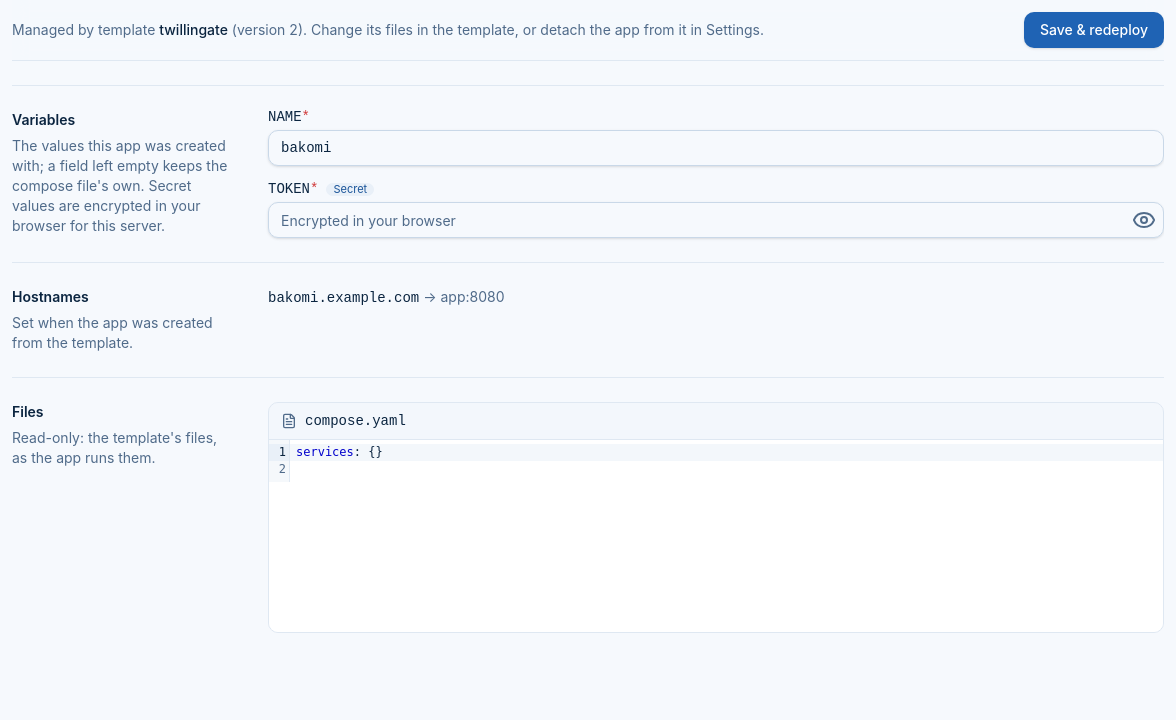
Test: InstancePanel › says a refused Save needs attention and focuses the first bad field
Click the button "Save & redeploy" at (1094, 30), box [1024, 12, 1164, 48]
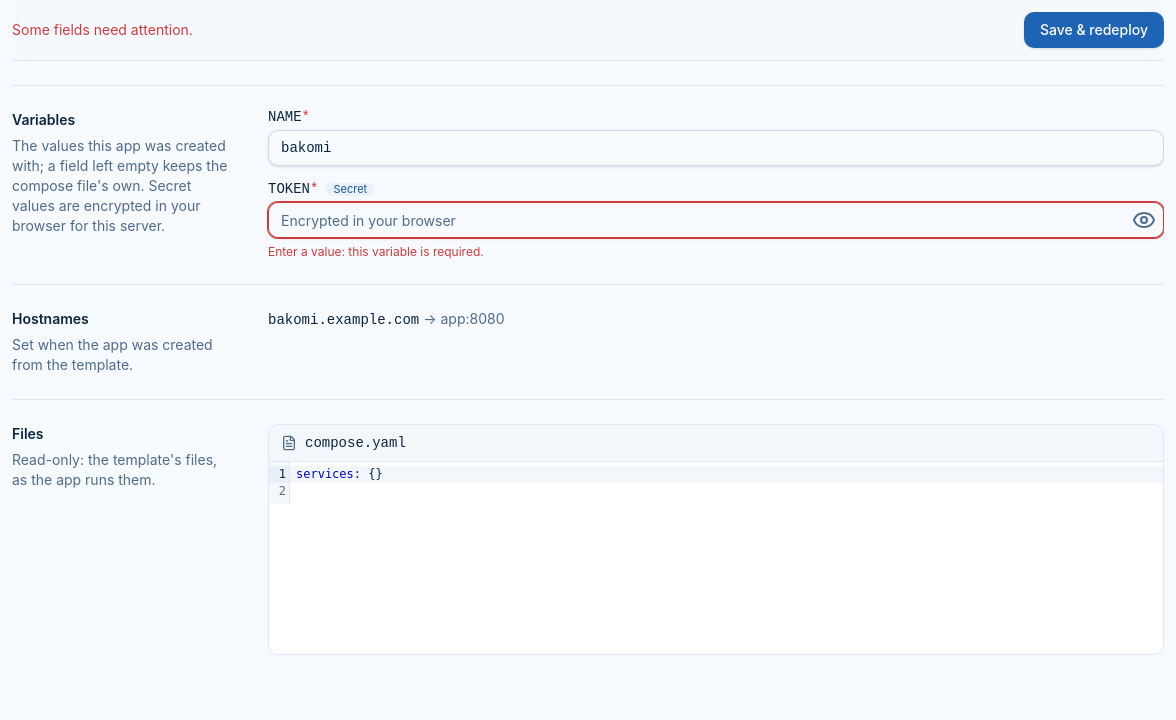
expect the message reads "Some fields need attention.": met, box [12, 21, 193, 38]
# Typing the secret clears the line.
Type "s3cret" into the password field labelled "TOKEN" at (716, 220), box [268, 202, 1164, 238]
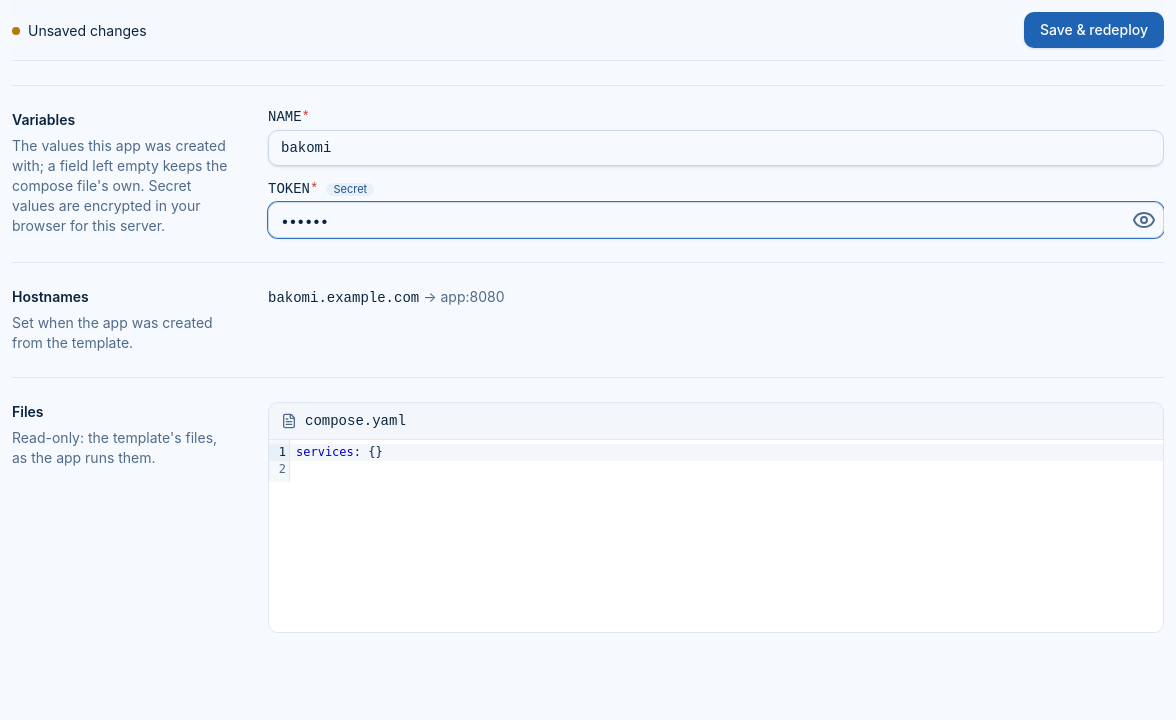
expect the text "Unsaved changes" is shown: met, box [12, 20, 147, 40]
